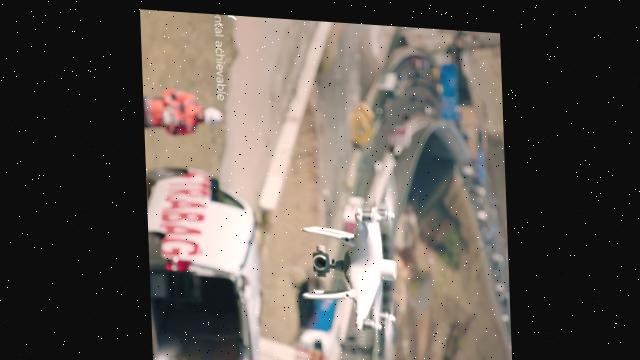drone: (298, 163, 400, 360)
